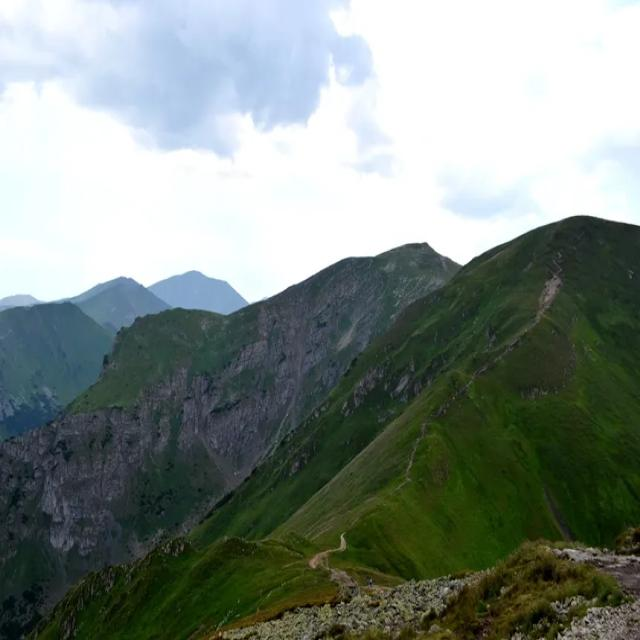Ciemniak: (138, 225, 256, 317)
Krzesanica: (389, 208, 459, 279)
Malolaczniak: (499, 158, 640, 278)
